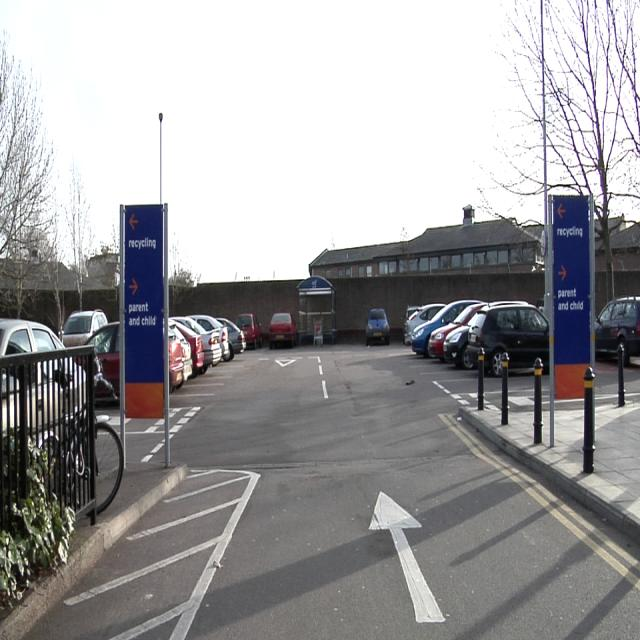Building: (171, 208, 543, 339), (614, 222, 639, 297)
Car: (412, 301, 548, 373), (169, 317, 239, 389), (410, 301, 484, 367), (481, 304, 549, 374), (596, 298, 639, 363), (61, 311, 108, 345), (269, 313, 296, 347), (236, 314, 261, 349), (366, 309, 390, 344)
Road: (0, 334, 636, 628)
Tree: (481, 1, 639, 223), (1, 29, 95, 318)
